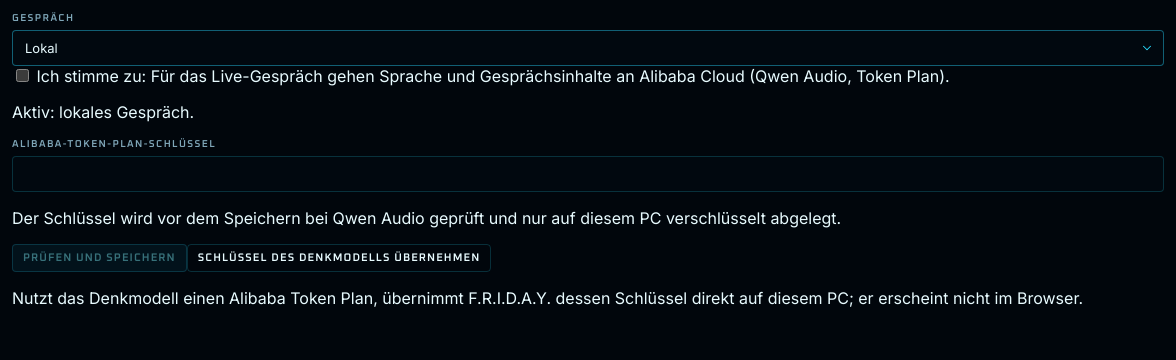
Test case: übernimmt den Schlüssel des Denkmodells und bestätigt das Speichern
What coordinates should you click on to do the following:
click the button "Schlüssel des Denkmodells übernehmen"
I would click on:
 (339, 258)
Its box is x1=187 y1=244 x2=491 y2=272.
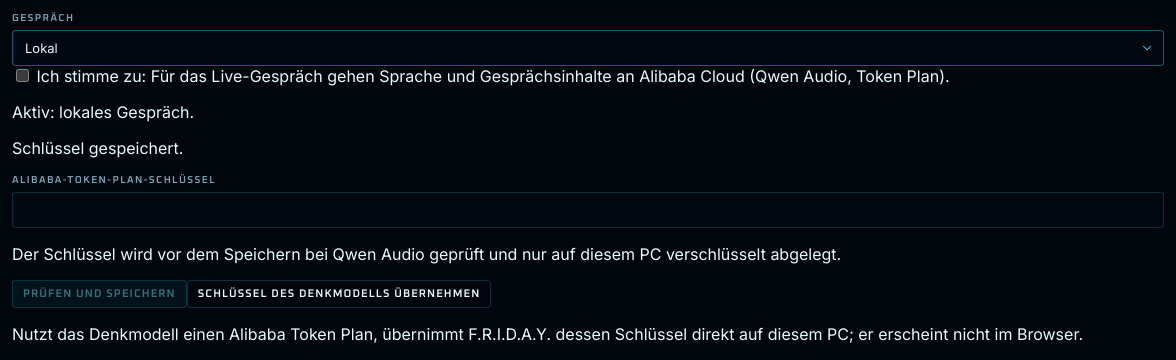
Result: the text "Schlüssel gespeichert." is shown at x1=12 y1=138 x2=183 y2=158
